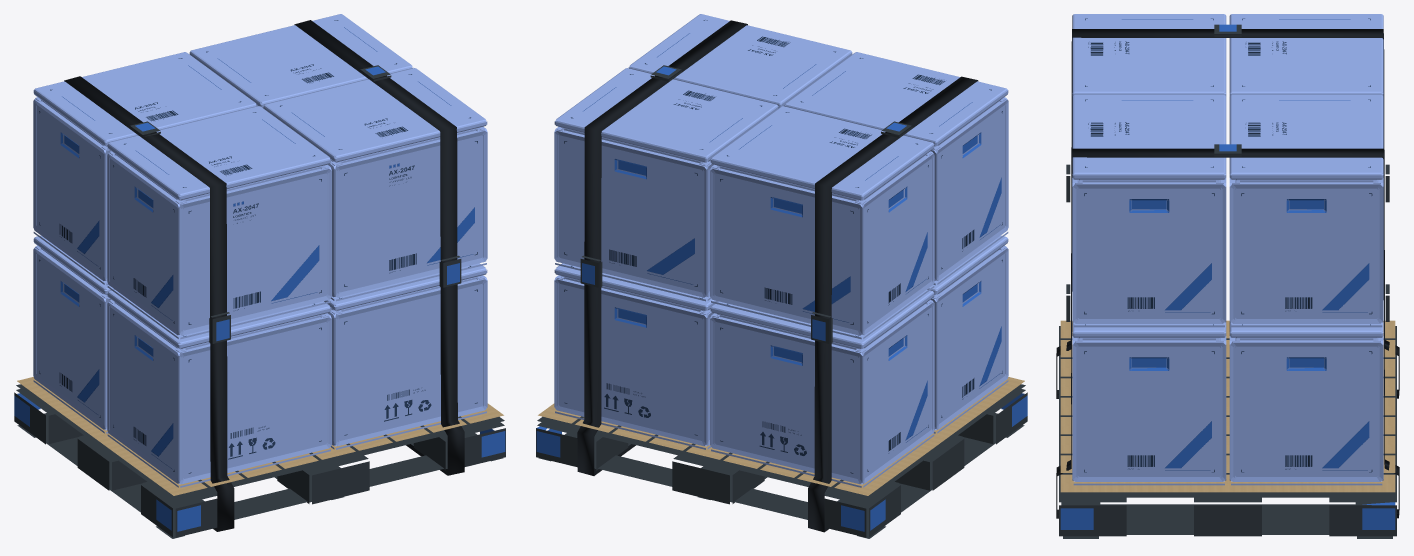
The model's file is shelf_loaded_LOD2.glb.
The picture shows the model from 3 angles, left to right: view 1: azimuth 30°, elevation 25°; view 2: azimuth 150°, elevation 25°; view 3: azimuth 270°, elevation 25°; orthographic projection. The views are drawn at different scales.
Parts seen in each view (by area): view 1: Export_Box_05, Export_Box_01, Export_Box_06, Export_Pallet, Export_Box_02, Export_Box_07, Export_Box_03, Export_Box_08, Export_Strap_2_Continuous, Export_Strap_1_Continuous, Export_Buckles; view 2: Export_Box_07, Export_Box_03, Export_Box_08, Export_Pallet, Export_Box_04, Export_Box_05, Export_Box_01, Export_Box_06, Export_Strap_2_Continuous, Export_Strap_1_Continuous, Export_Buckles; view 3: Export_Box_06, Export_Box_08, Export_Box_02, Export_Box_04, Export_Pallet, Export_Box_05, Export_Box_07, Export_Strap_2_Continuous, Export_Strap_1_Continuous, Export_Buckles.
Boxes of the visible parts, <box> form: Export_Box_05: <box>107,106,331,339</box>; Export_Box_01: <box>107,289,331,487</box>; Export_Box_06: <box>263,68,487,301</box>; Export_Pallet: <box>14,377,505,538</box>; Export_Box_02: <box>324,263,487,449</box>; Export_Box_07: <box>33,52,257,285</box>; Export_Box_03: <box>33,235,114,433</box>; Export_Box_08: <box>189,14,413,107</box>; Export_Strap_2_Continuous: <box>294,20,464,475</box>; Export_Strap_1_Continuous: <box>64,76,234,531</box>; Export_Buckles: <box>129,65,461,343</box>; Export_Box_07: <box>710,106,934,339</box>; Export_Box_03: <box>710,289,934,487</box>; Export_Box_08: <box>554,68,778,301</box>; Export_Pallet: <box>536,377,1027,538</box>; Export_Box_04: <box>554,263,717,449</box>; Export_Box_05: <box>784,52,1008,285</box>; Export_Box_01: <box>927,235,1008,433</box>; Export_Box_06: <box>628,14,852,107</box>; Export_Strap_2_Continuous: <box>577,20,747,475</box>; Export_Strap_1_Continuous: <box>808,76,978,532</box>; Export_Buckles: <box>580,65,912,343</box>; Export_Box_06: <box>1072,95,1226,327</box>; Export_Box_08: <box>1229,95,1383,327</box>; Export_Box_02: <box>1072,322,1226,485</box>; Export_Box_04: <box>1229,322,1383,485</box>; Export_Pallet: <box>1059,320,1396,538</box>; Export_Box_05: <box>1072,14,1226,96</box>; Export_Box_07: <box>1229,14,1383,96</box>; Export_Strap_2_Continuous: <box>1056,148,1399,518</box>; Export_Strap_1_Continuous: <box>1056,29,1399,398</box>; Export_Buckles: <box>1066,24,1389,321</box>.
Bounding box in the file's own units: 1.2 × 1.19 × 1.
Materials: 6 (2 with a texture image).
